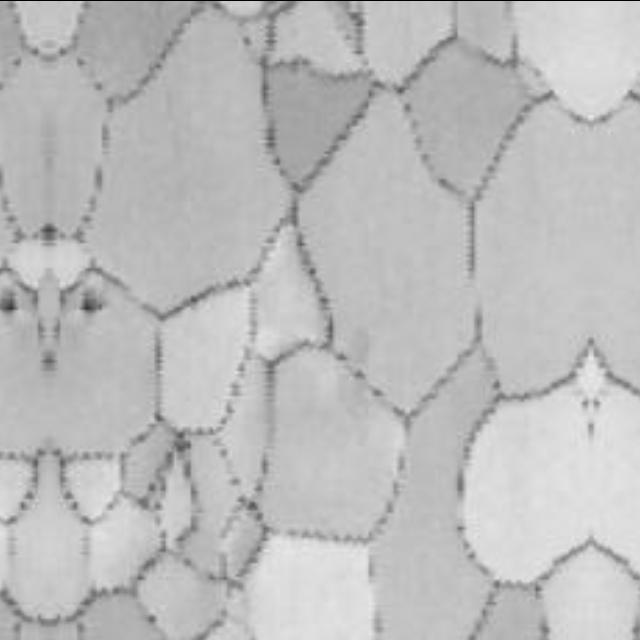good_void: (78, 287, 110, 316), (0, 287, 21, 316), (243, 34, 255, 47)
